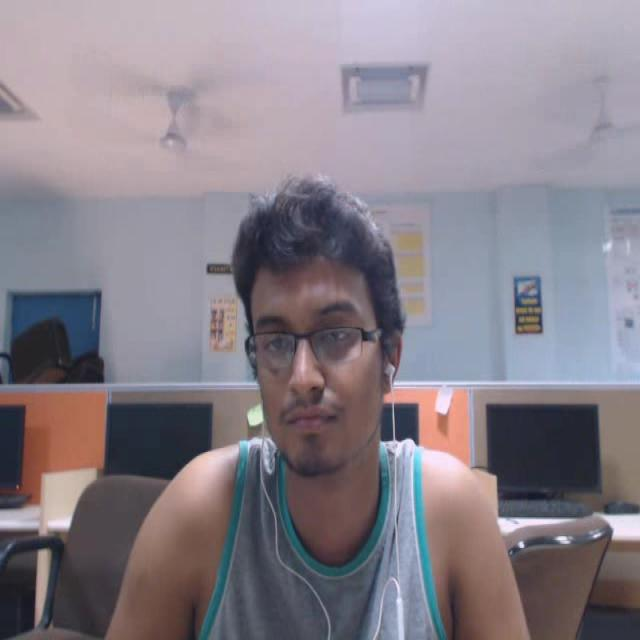Bored: (207, 161, 463, 548)
